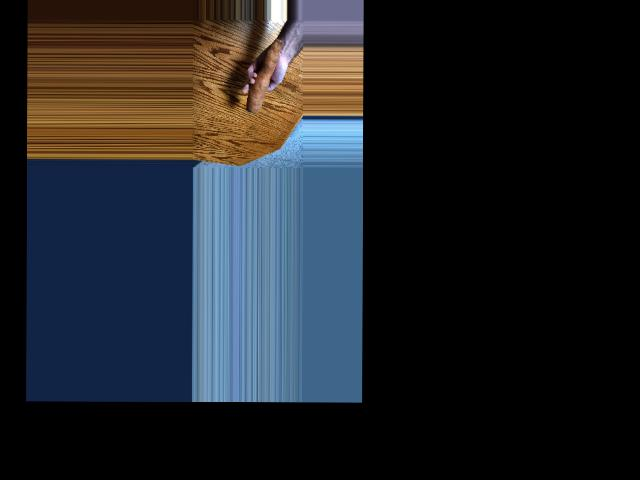sweet_potato: (251, 38, 283, 110)
